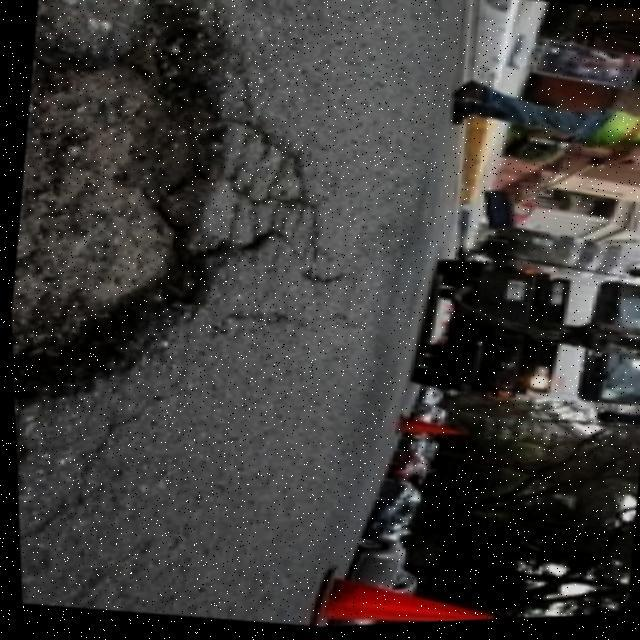pothole: (0, 0, 283, 431)
